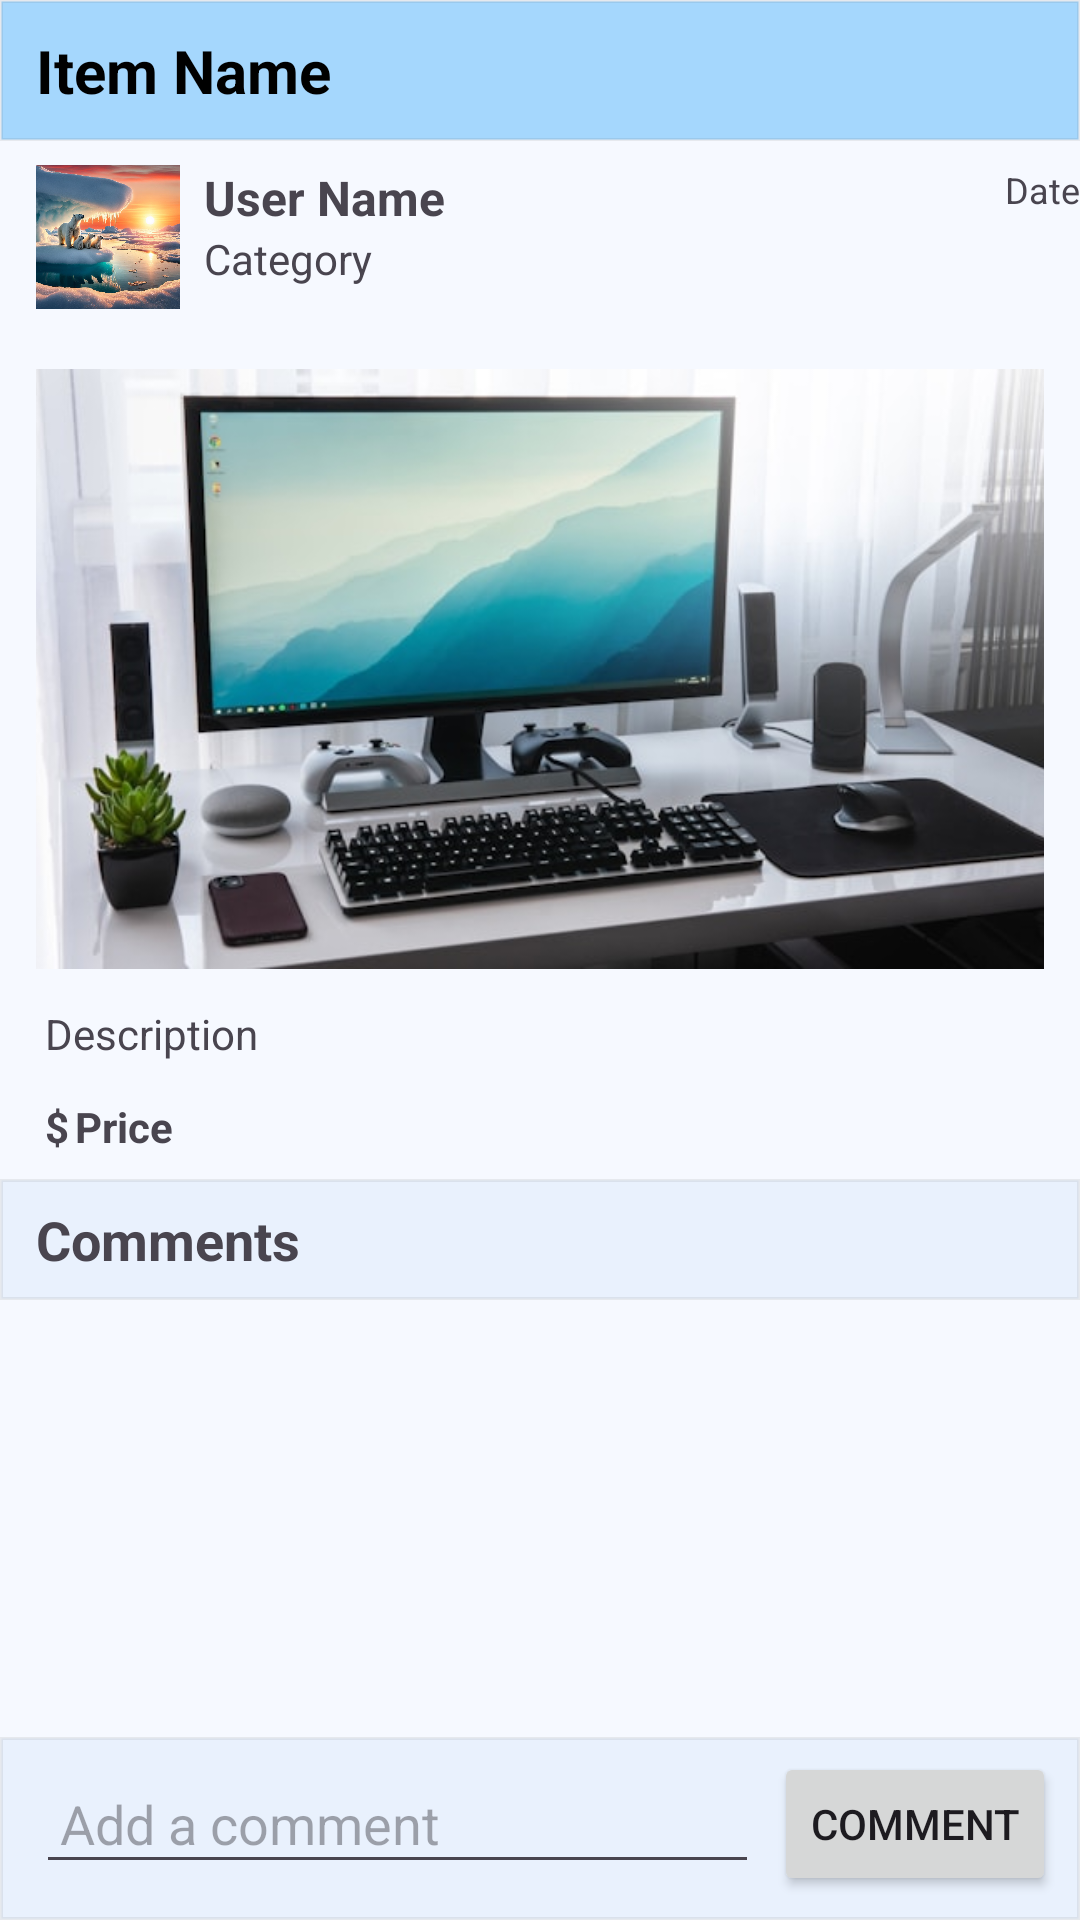

Named icons in this screenshot (1080px×1920px) and their centers, (x=x, y=y):
profile: (x=108, y=237)
